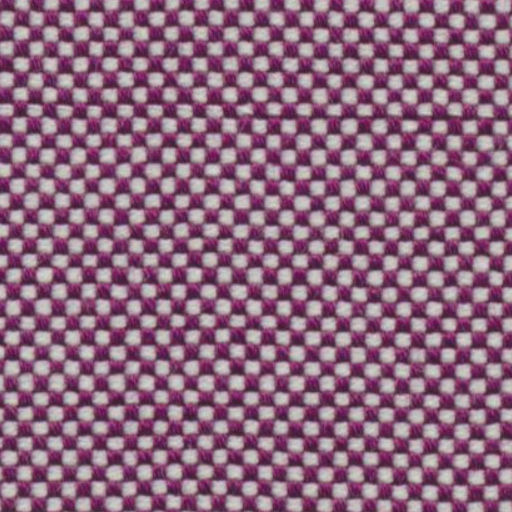TuoSha: (12, 75, 492, 139)
